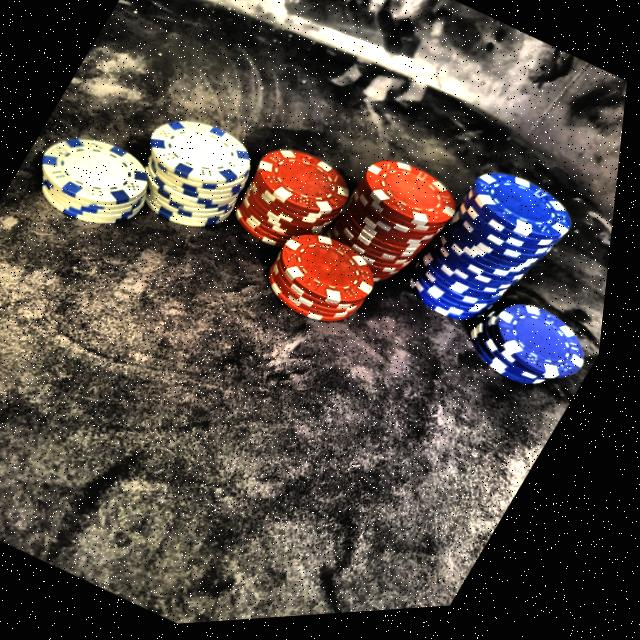Chip: (400, 154, 600, 365), (103, 86, 289, 265), (314, 137, 486, 317), (15, 103, 186, 263), (220, 123, 381, 284), (458, 276, 615, 423), (253, 206, 407, 354)
